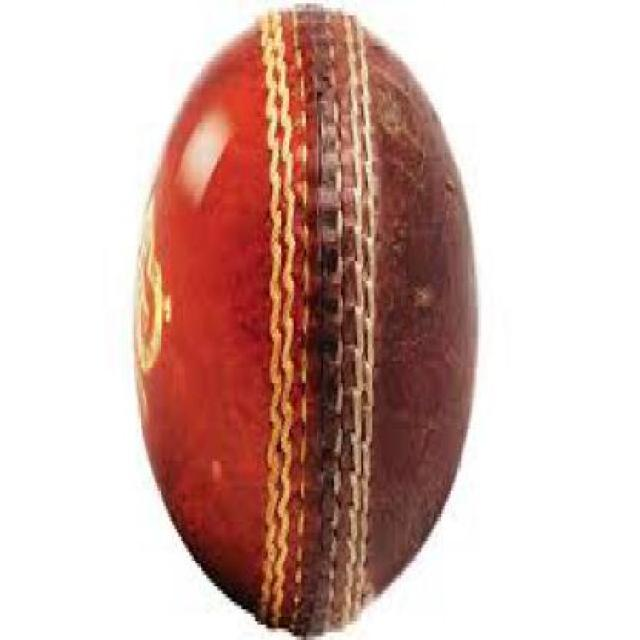ball: (106, 0, 510, 640)
